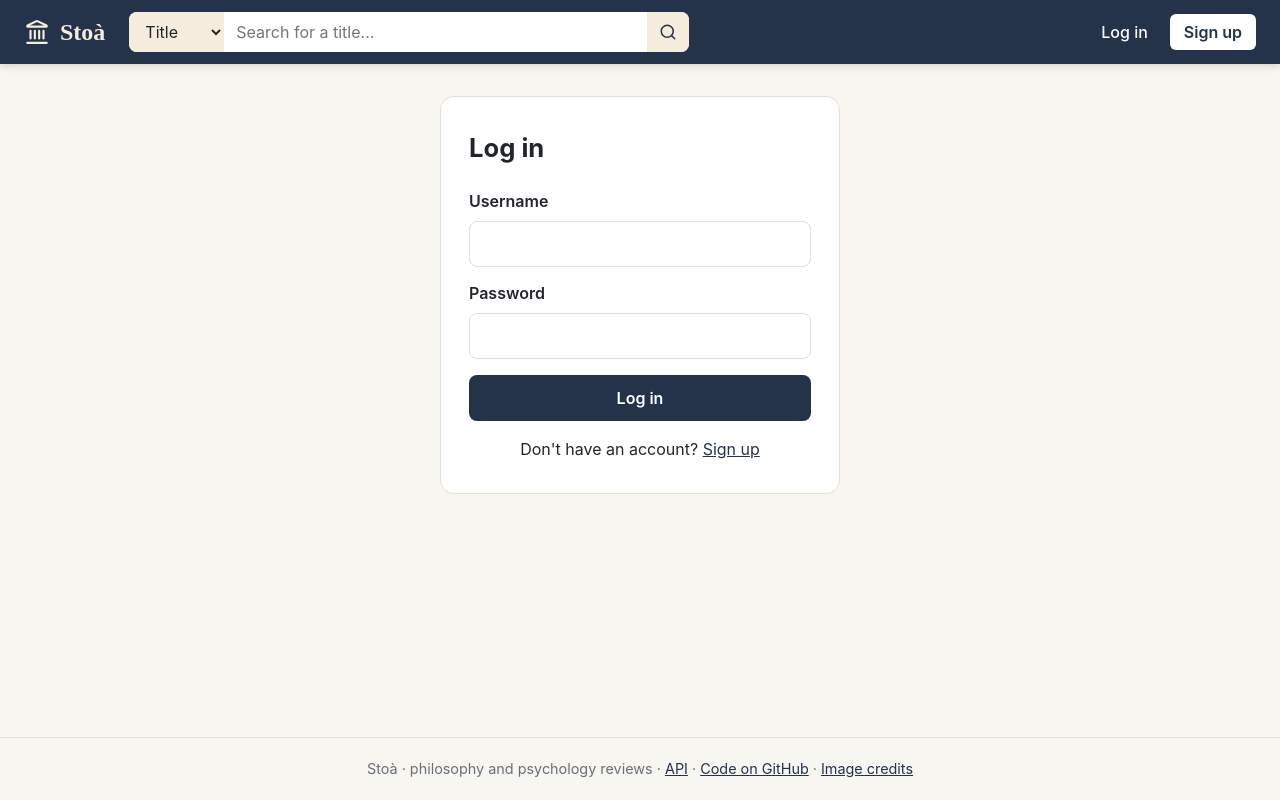
login › logs in and shows the username in the header
The width and height of the screenshot is (1280, 800).
Type "mario" into the field labelled "Username" at (640, 244), box 469,221 -> 811,267
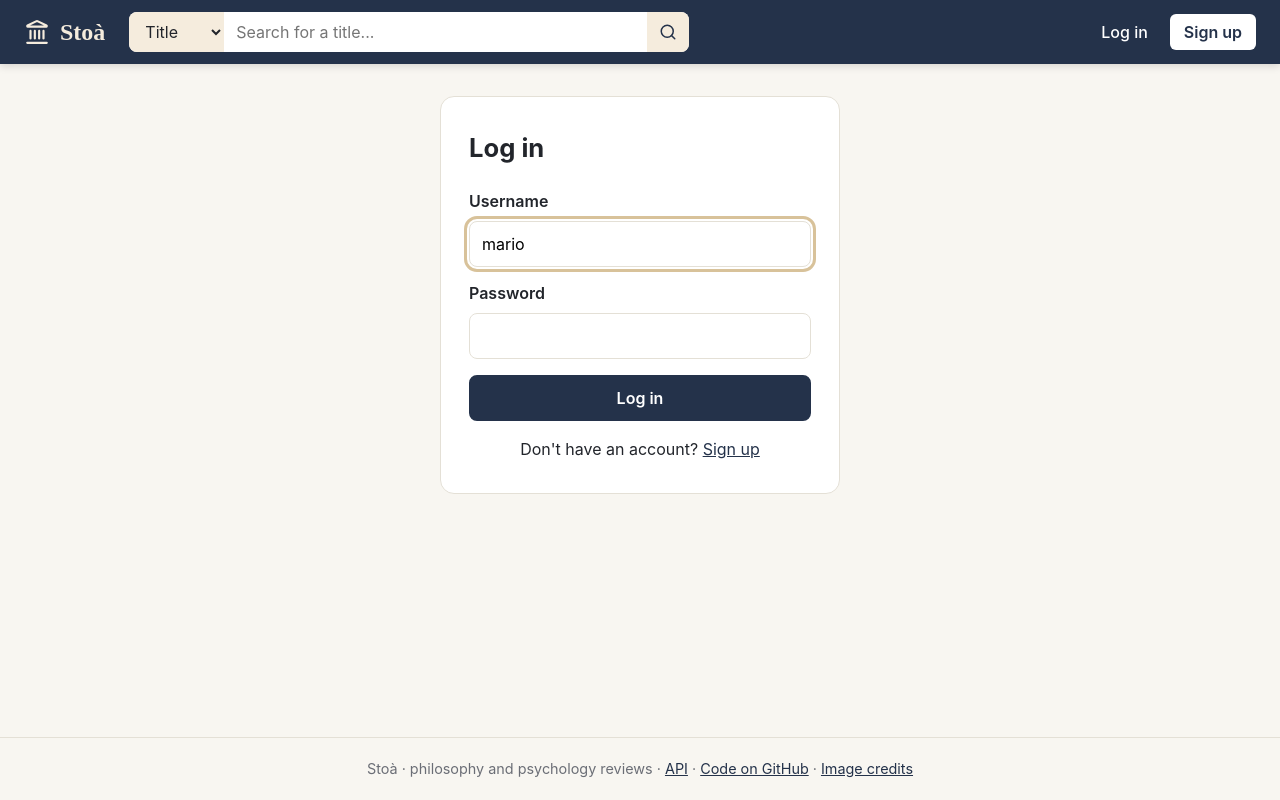
Type "segreta1" into the password field labelled "Password" at (640, 336), box 469,313 -> 811,359
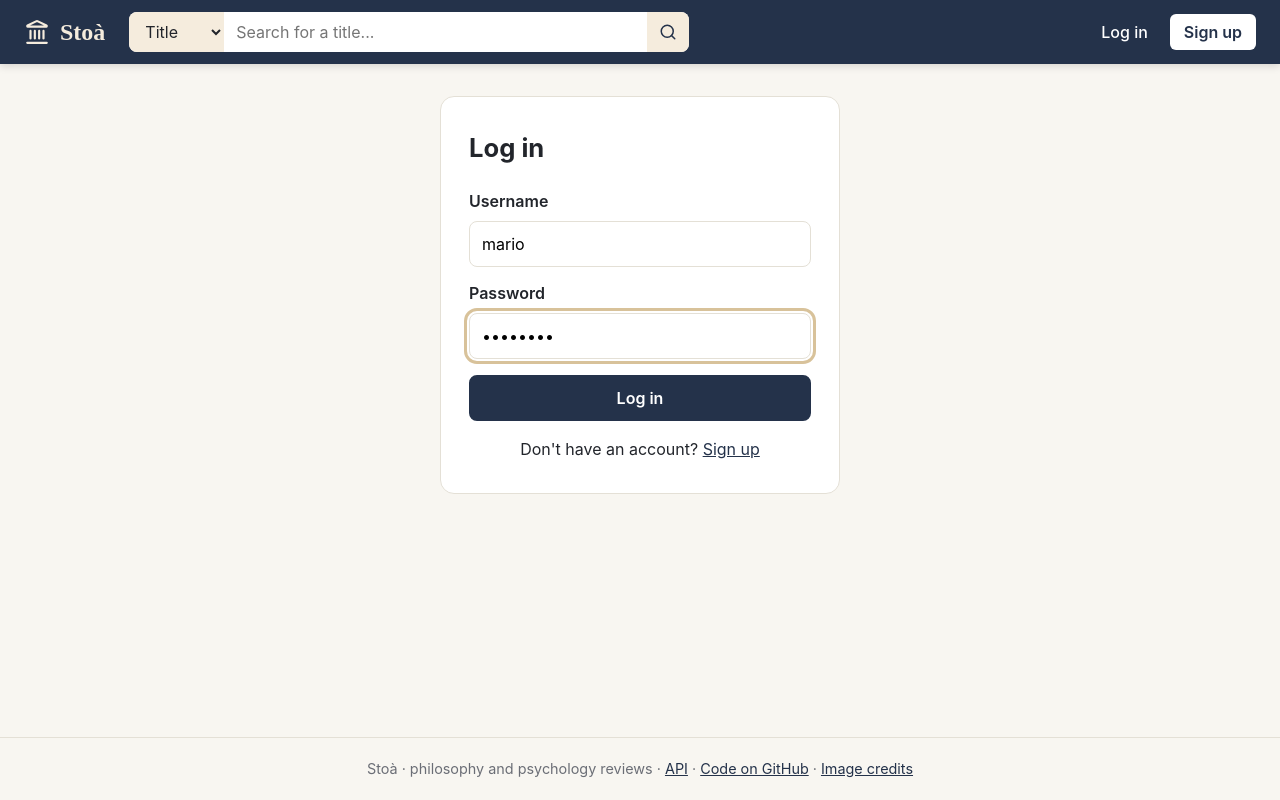
Click the button "Log in" at (640, 398), box 469,375 -> 811,421
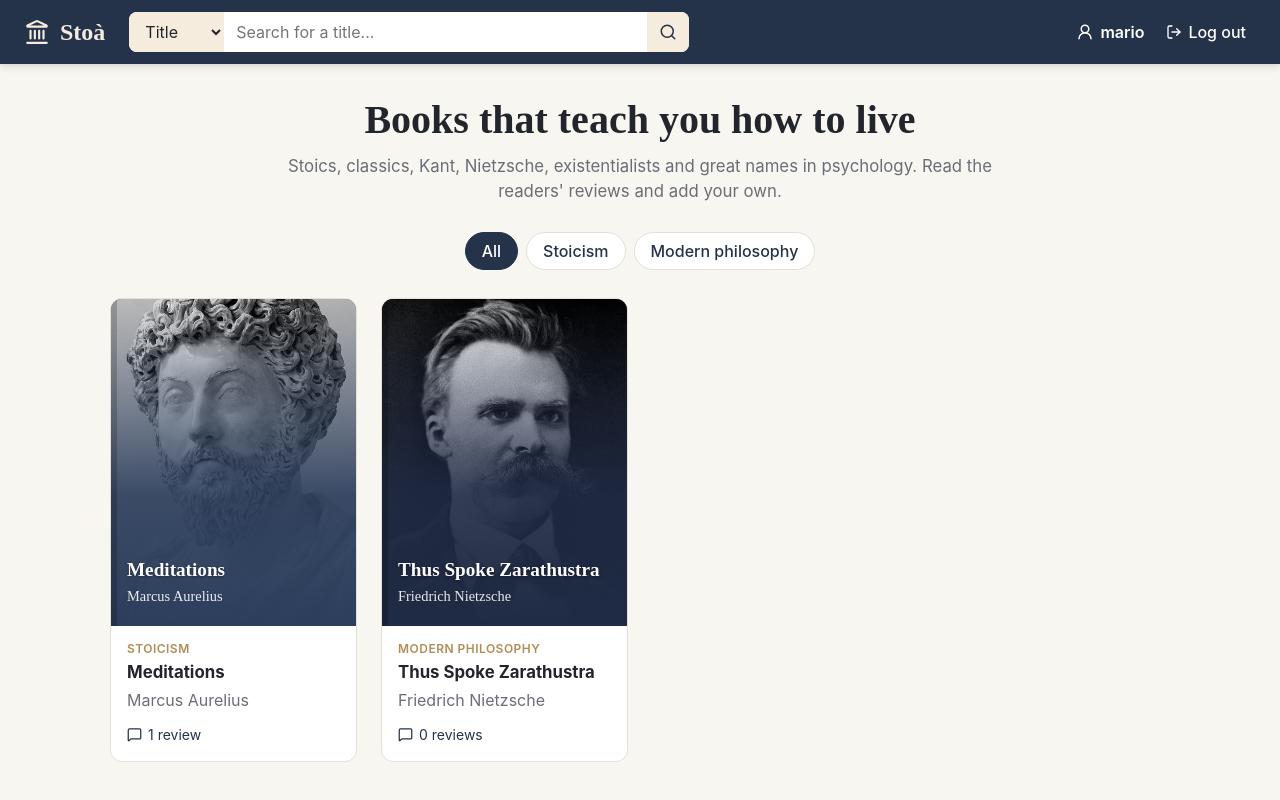
expect the text "mario" is shown: met, box 1076,20 -> 1144,44
expect the button "Log out" is shown: met, box 1156,14 -> 1256,50
